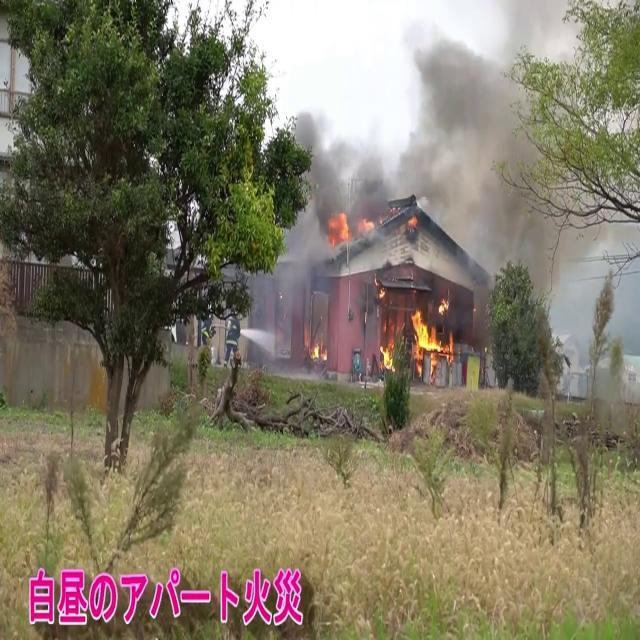Fire: (406, 298, 456, 368), (324, 204, 354, 250)
Smoke: (373, 17, 582, 310)
